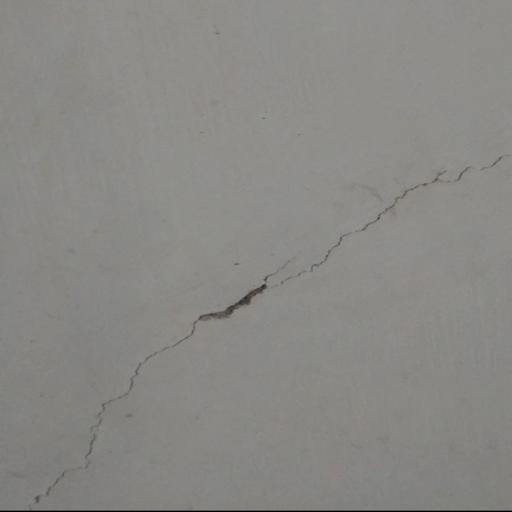minor_crack: (24, 144, 512, 512)
